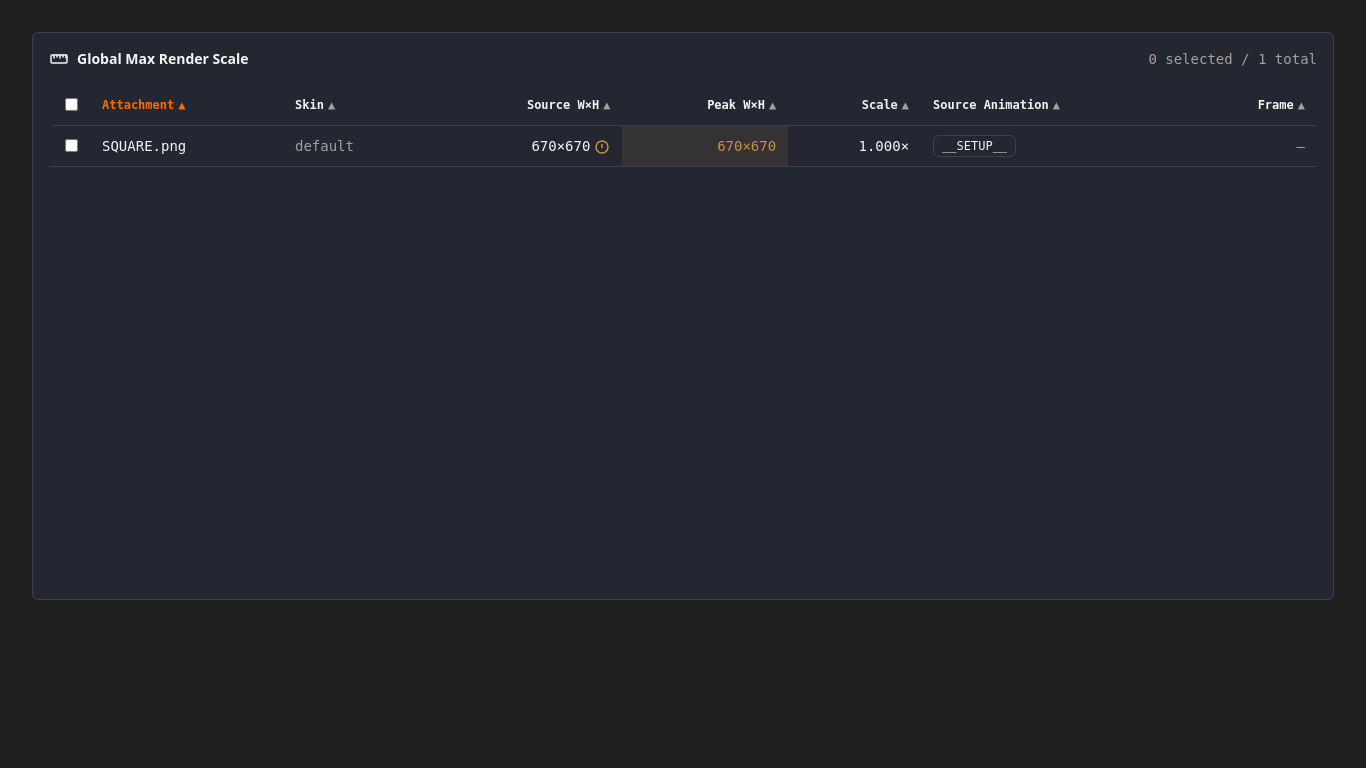
Test: G-01 D-02: mode-aware wording › atlas-source mode ("auto") renders "Atlas region declares" wording
The width and height of the screenshot is (1366, 768).
Hover over the element with test id "dims-badge-host": (602, 147) [594,139,610,155]
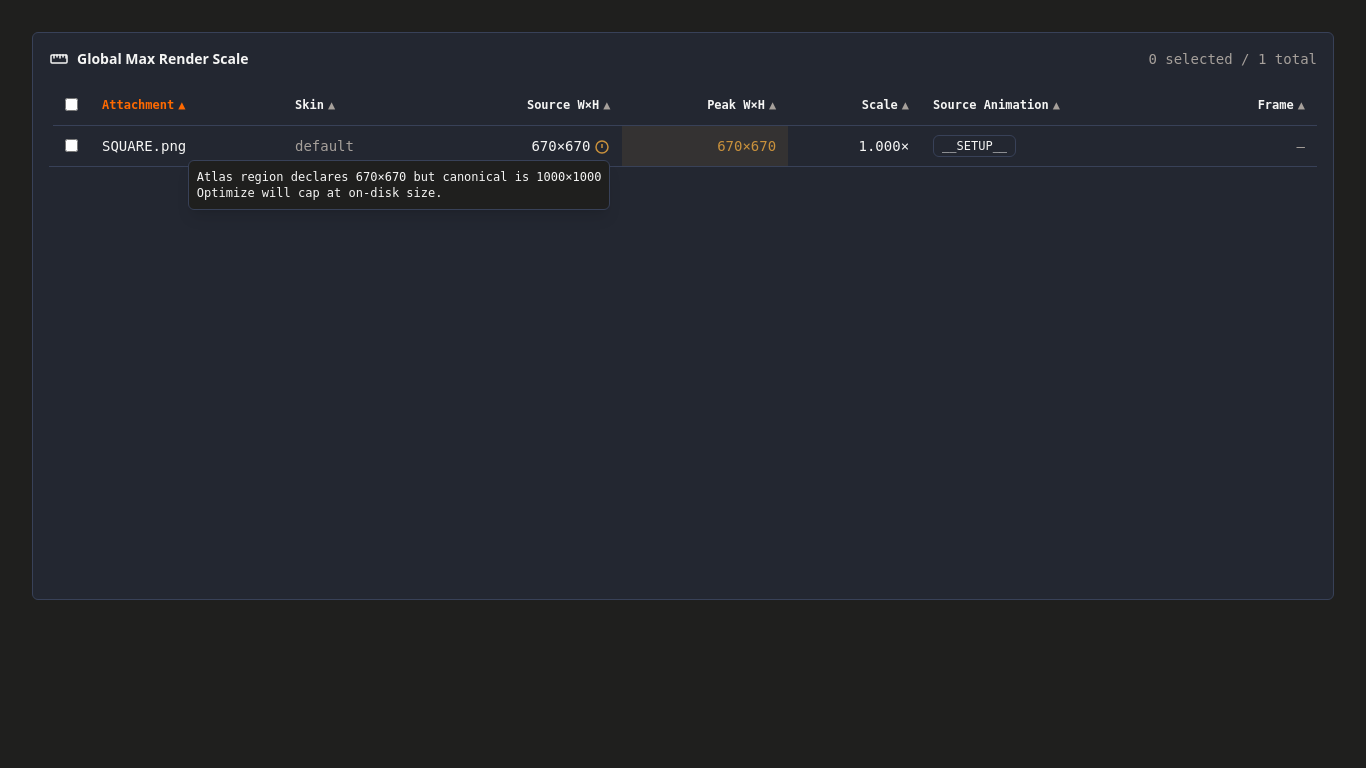
Result: the tooltip shows "Atlas region declares 670×670" at [197,170,601,200]
